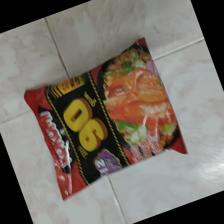Kokomi: (23, 36, 187, 200)
